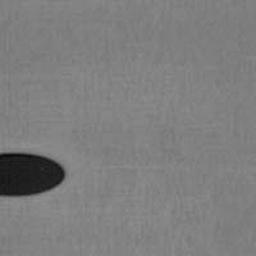Punching: (0, 153, 65, 196)
